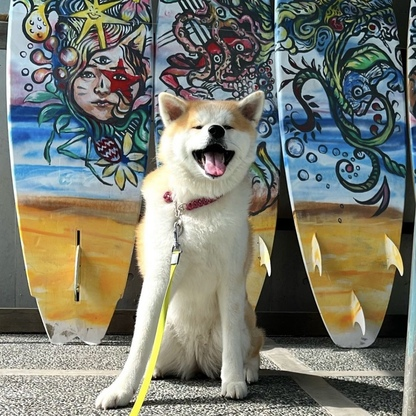akita: (91, 87, 273, 416)
